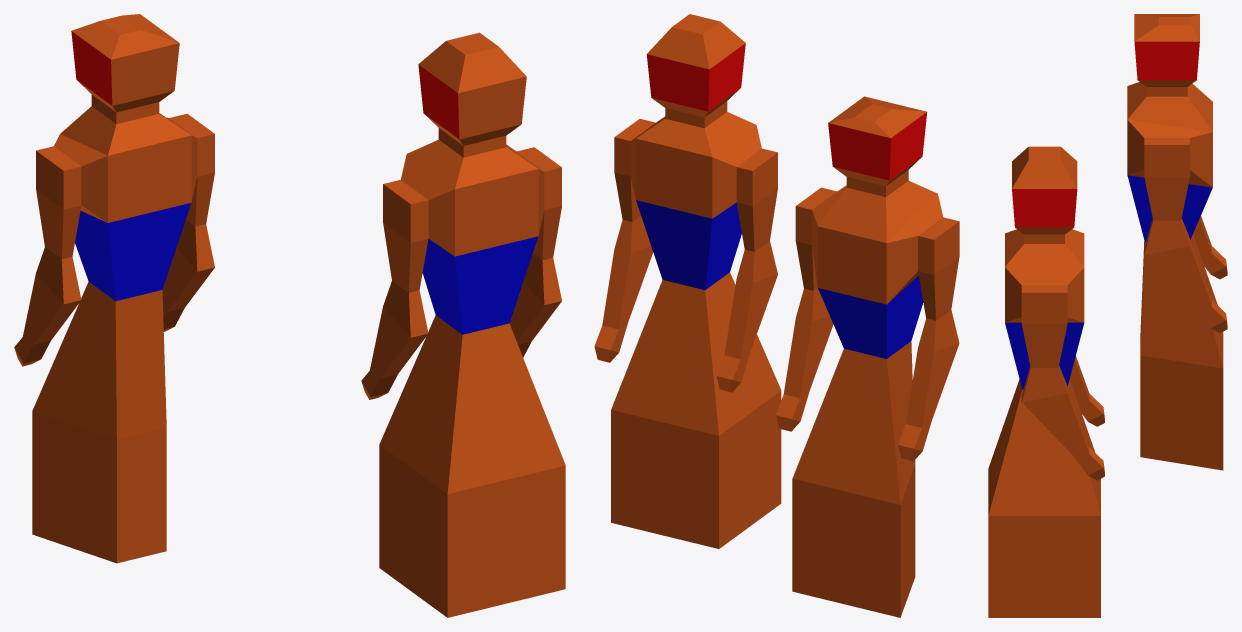
File: robots.obj
3 views of the same model, side by side, from view 1: azimuth 30°, elevation 25°; view 2: azimuth 150°, elevation 25°; view 3: azimuth 270°, elevation 25° (orthographic). The views are drawn at different scales.
Visible parts, largest first — view 1: Robot1_Cube, Robot2_Cube.001; view 2: Robot1_Cube, Robot2_Cube.001; view 3: Robot1_Cube, Robot2_Cube.001.
Part boxes in pixels (left/top/right/bottom): Robot1_Cube: left=361, top=32, right=565, bottom=617; Robot2_Cube.001: left=14, top=14, right=214, bottom=563; Robot1_Cube: left=594, top=14, right=781, bottom=548; Robot2_Cube.001: left=776, top=96, right=959, bottom=617; Robot1_Cube: left=988, top=146, right=1104, bottom=617; Robot2_Cube.001: left=1127, top=14, right=1227, bottom=470.
Size of the model in its own units: 7.18 by 9.09 by 4.25.
